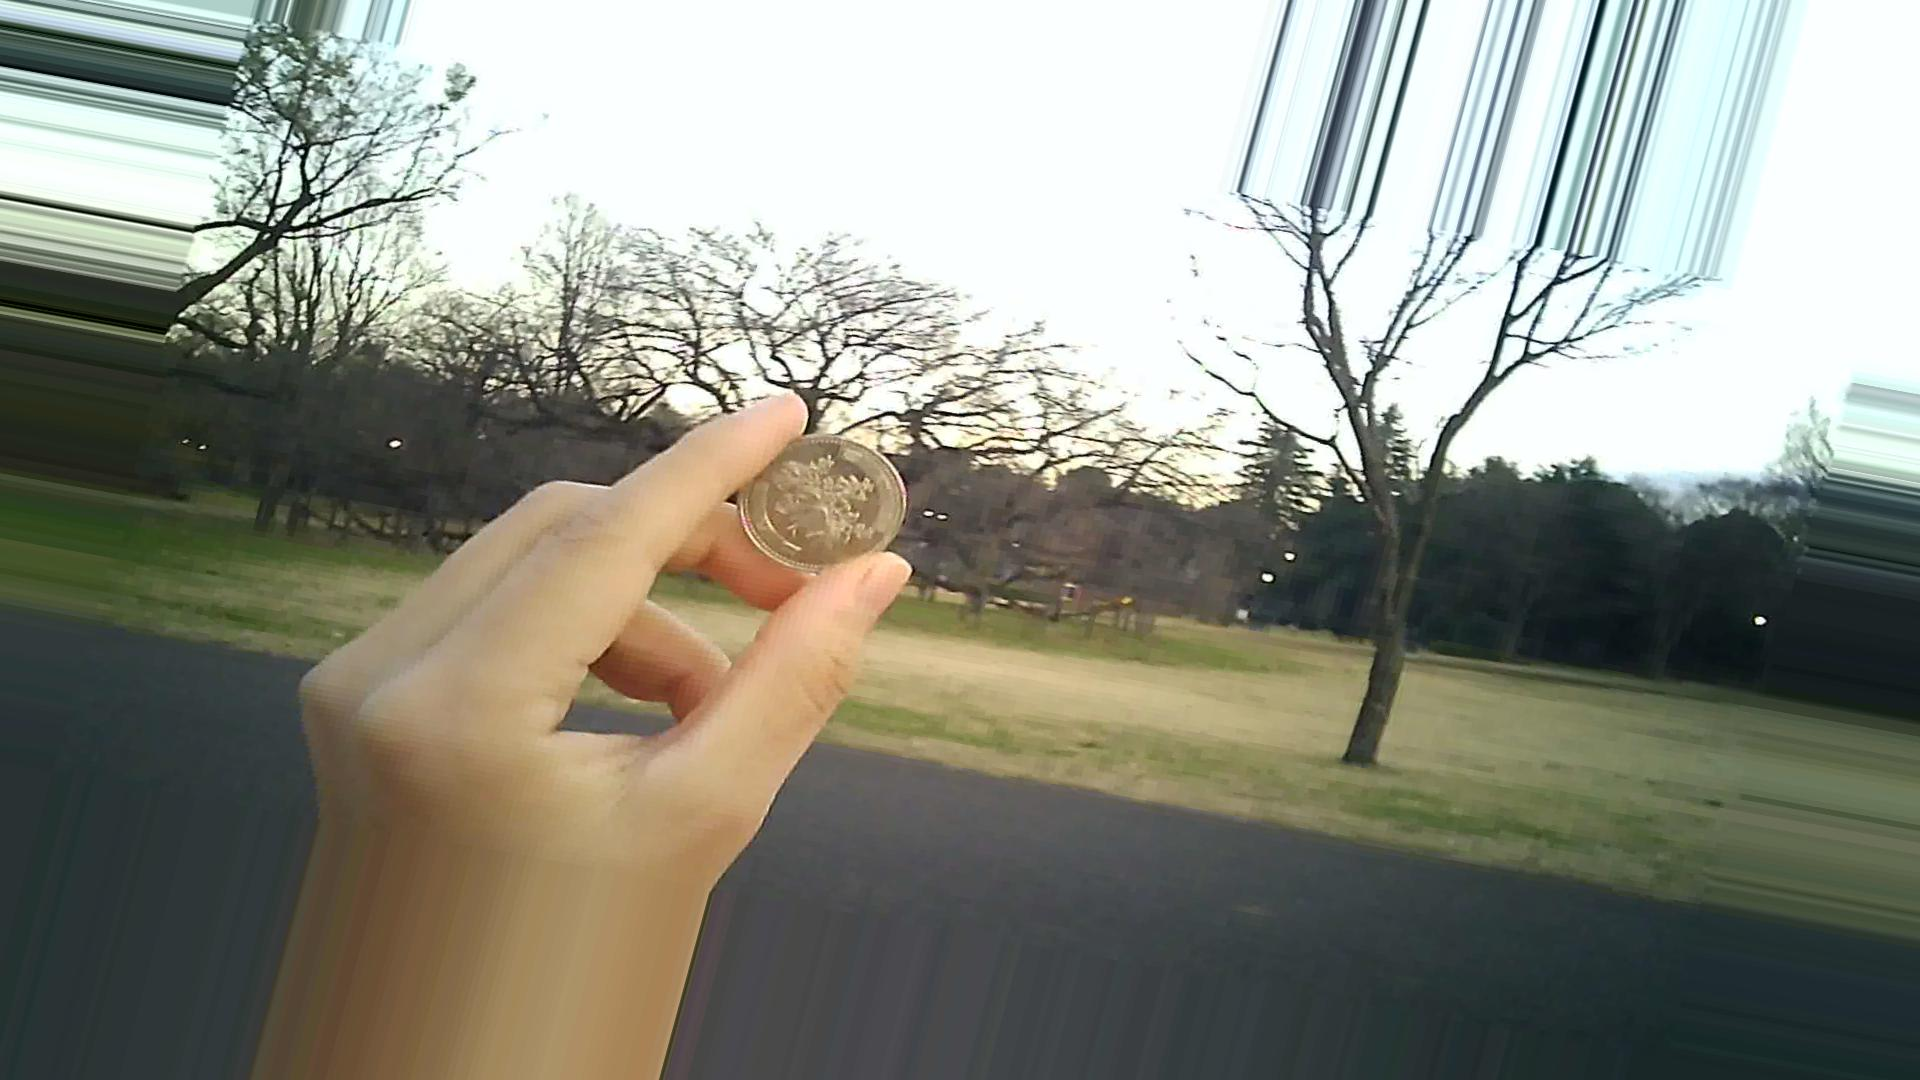500 Yen: (733, 423, 920, 562)
